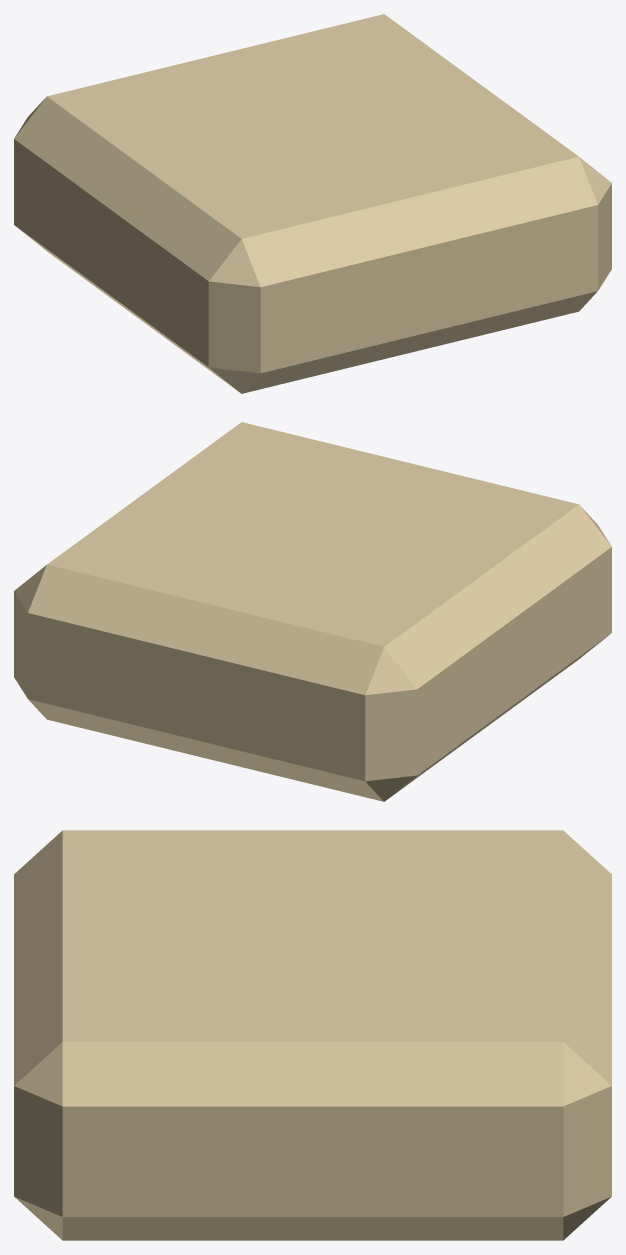
The model's file is sand.glb.
3 views of the same model, one above another, from view 1: azimuth 30°, elevation 25°; view 2: azimuth 150°, elevation 25°; view 3: azimuth 270°, elevation 25° (orthographic). The views are drawn at different scales.
Visible parts, largest first — view 1: sand_tile; view 2: sand_tile; view 3: sand_tile.
Boxes of the visible parts, x1=… form: sand_tile: x1=14, y1=14, x2=611, y2=393; sand_tile: x1=14, y1=422, x2=611, y2=801; sand_tile: x1=14, y1=830, x2=611, y2=1240.
Size of the model in its own units: 0.98 by 0.36 by 0.98.
